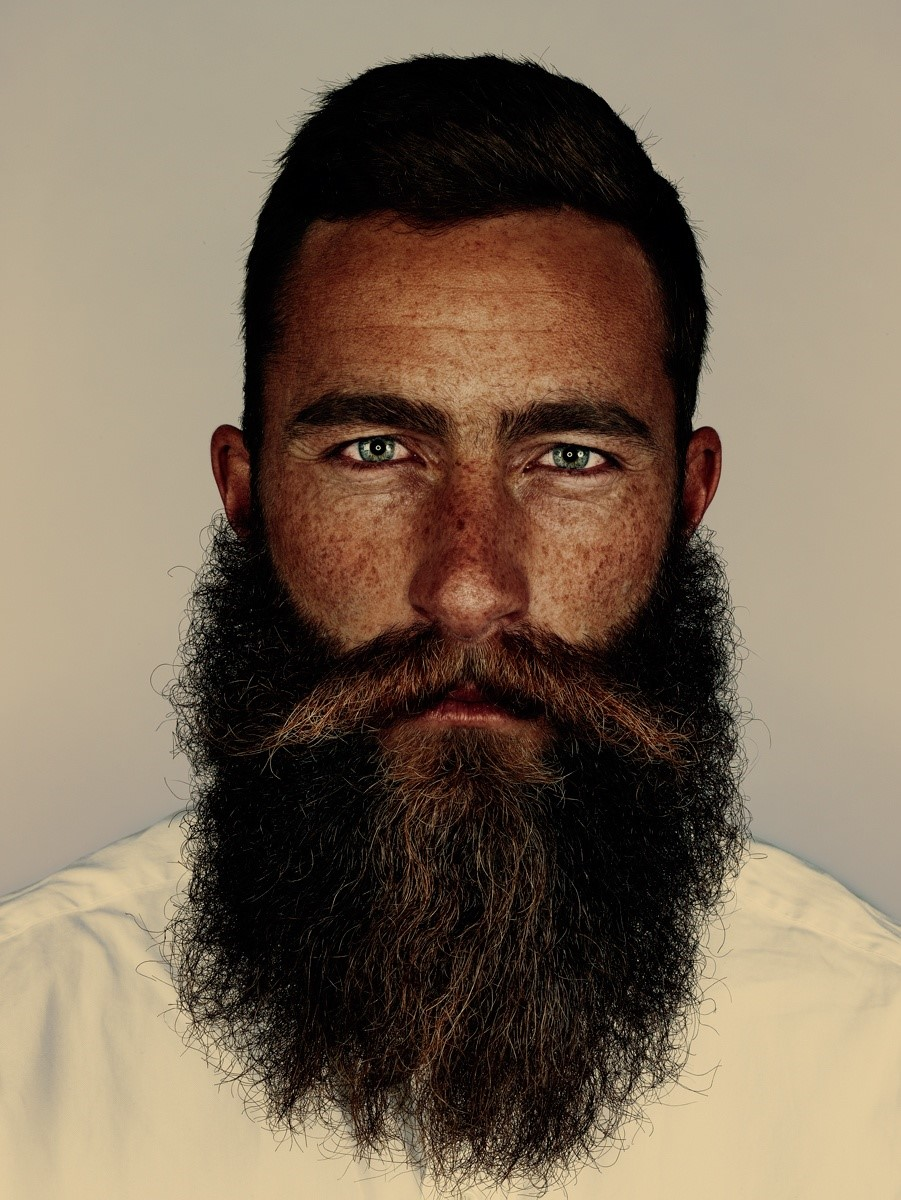face_no_mask: (196, 125, 737, 852)
